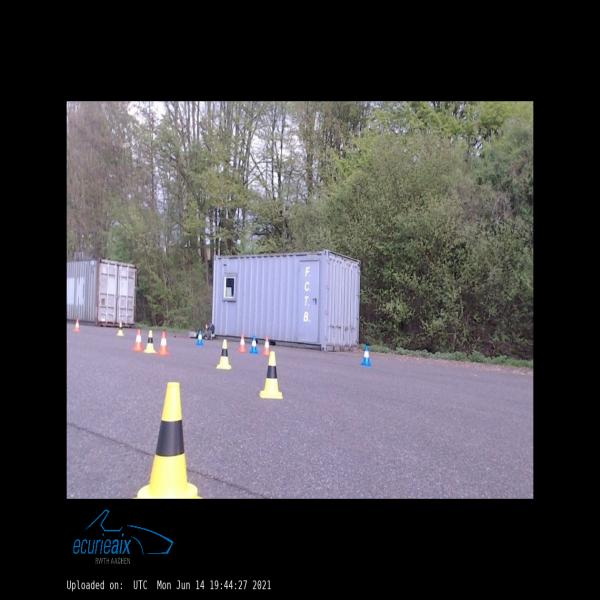blue_cone: (361, 346, 371, 366), (250, 335, 258, 353), (196, 330, 204, 345)
orange_cone: (158, 332, 170, 354), (133, 329, 143, 351), (238, 335, 246, 352), (262, 337, 270, 354), (74, 320, 80, 331)
yellow_cone: (132, 381, 203, 498), (259, 352, 283, 398), (216, 340, 231, 369), (144, 330, 157, 352), (117, 322, 124, 336)
